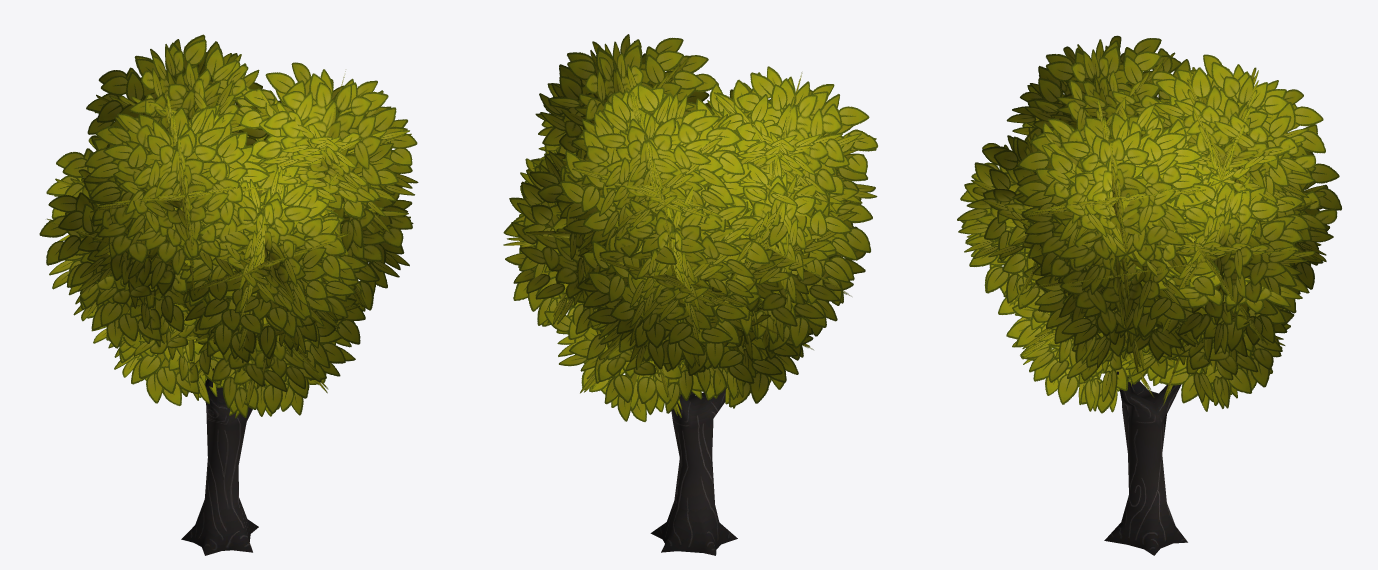
File: LeafTree1.fbx
3 views of the same model, side by side, from view 1: azimuth 30°, elevation 25°; view 2: azimuth 150°, elevation 25°; view 3: azimuth 270°, elevation 25° (orthographic).
Parts seen in each view (by area): view 1: LeafTree1; view 2: LeafTree1; view 3: LeafTree1.
Part boxes in pixels (x1,y1,x2,y2): LeafTree1: [39, 34, 418, 555]; LeafTree1: [503, 34, 877, 555]; LeafTree1: [957, 35, 1341, 555].
Bounding box in the file's own units: 20.88 × 26.19 × 20.7.
